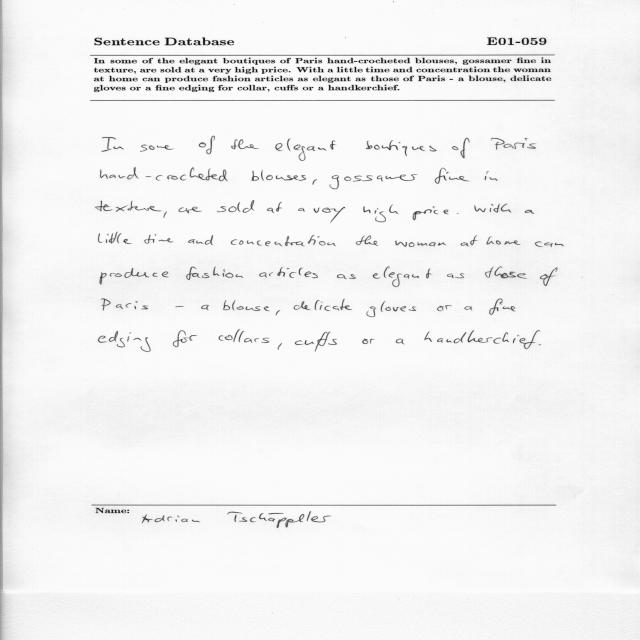word: (425, 330, 540, 349), (101, 167, 229, 182), (275, 138, 336, 161), (330, 175, 418, 190), (373, 267, 433, 287), (100, 268, 169, 285), (230, 235, 336, 246), (366, 141, 436, 157), (98, 331, 151, 352), (295, 332, 337, 352), (367, 301, 417, 317), (186, 267, 244, 280), (95, 201, 162, 212), (219, 329, 269, 343), (294, 299, 352, 311), (259, 267, 318, 278), (364, 205, 399, 222), (252, 170, 306, 181), (102, 299, 148, 311), (435, 168, 469, 184), (223, 300, 270, 311), (314, 207, 346, 223), (413, 207, 449, 221), (485, 267, 527, 279), (491, 138, 536, 149), (217, 200, 254, 213), (489, 299, 515, 315), (98, 232, 132, 244), (173, 331, 197, 348), (452, 138, 470, 158), (540, 267, 558, 286), (475, 204, 512, 213), (102, 137, 124, 152), (486, 236, 521, 245), (395, 241, 446, 247), (145, 234, 174, 244), (199, 136, 215, 154), (231, 140, 259, 150), (188, 235, 213, 245), (356, 235, 378, 246), (140, 145, 173, 152), (461, 236, 478, 247), (535, 241, 564, 247), (267, 202, 282, 213), (178, 207, 202, 213), (485, 171, 498, 181), (337, 274, 356, 279), (437, 305, 452, 311), (447, 274, 464, 279), (362, 339, 375, 344), (396, 339, 405, 344), (525, 210, 535, 214), (201, 305, 209, 310), (277, 343, 282, 350), (163, 211, 167, 218), (298, 208, 305, 212), (465, 306, 472, 310), (313, 179, 317, 185), (276, 311, 280, 316), (175, 306, 184, 307), (457, 213, 459, 214), (539, 344, 541, 345)
